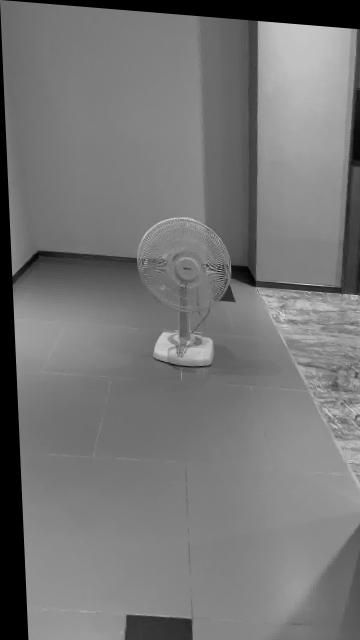Fan: (135, 214, 229, 364)
